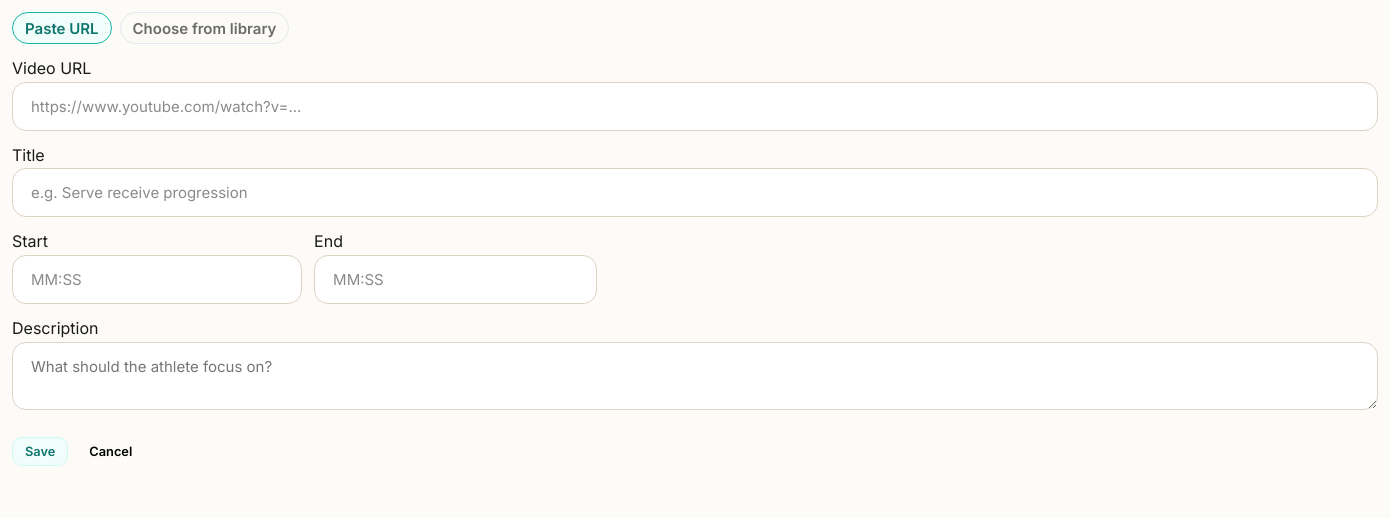
Test: VideoForm › detects and displays the provider as the url is typed
The image size is (1390, 518).
Type "https://www.instagram.com/p/Cabc123/" into the field labelled "Video URL" at {"x": 695, "y": 106}, box x1=12 y1=82 x2=1378 y2=131
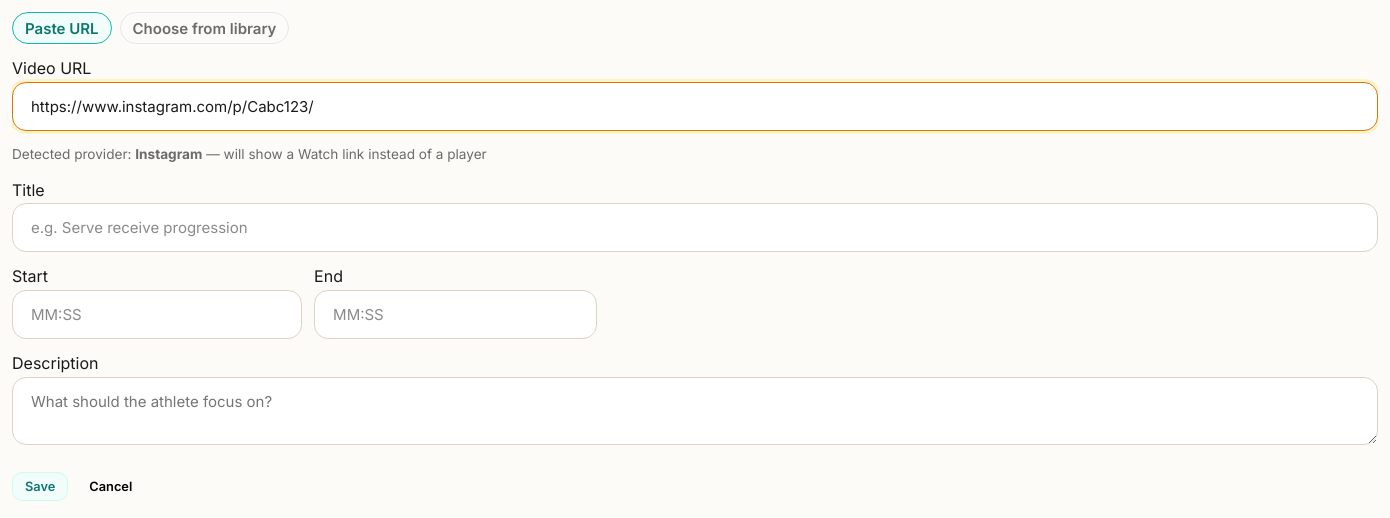
Now the element that starts with "Detected provider:" shows "Detected provider: Instagram", box x1=12 y1=146 x2=487 y2=162
Now the element that starts with "Detected provider:" shows "Watch link instead of a player", box x1=202 y1=146 x2=487 y2=162
